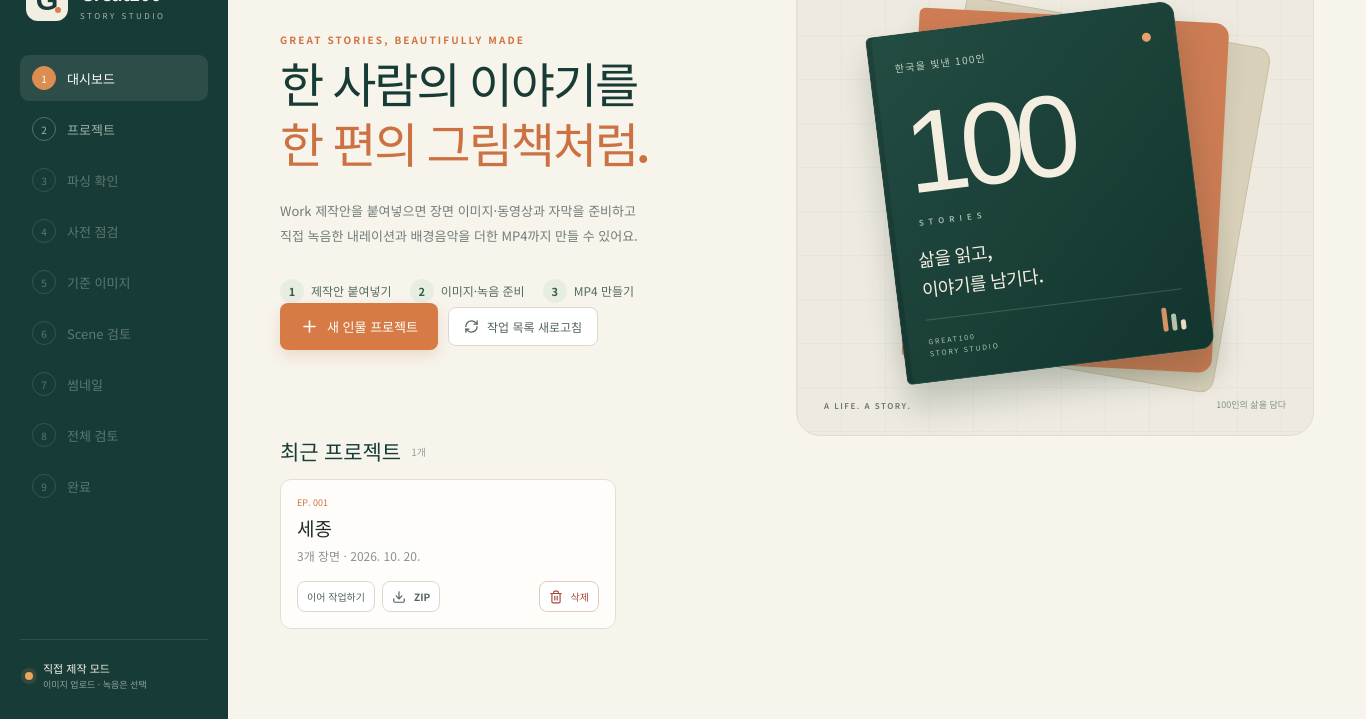
Test: keeps a failed project save visible without throwing away the selected generated voice
The width and height of the screenshot is (1366, 719).
(page scrolled)
Click the button "이어 작업하기" at (336, 597), box [297,581,375,612]
(page scrolled)
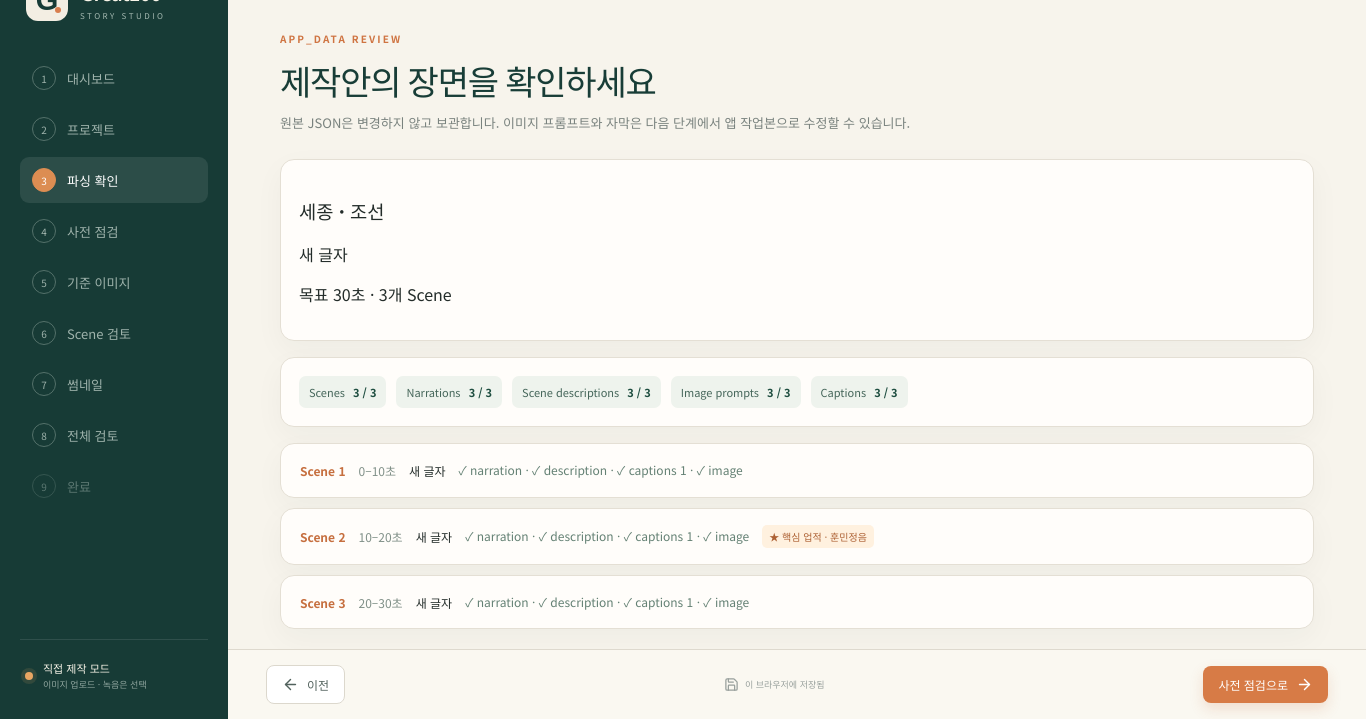
Click the button with aria-label "다음 단계" at (1266, 684), box [1203,666,1328,703]
(page scrolled)
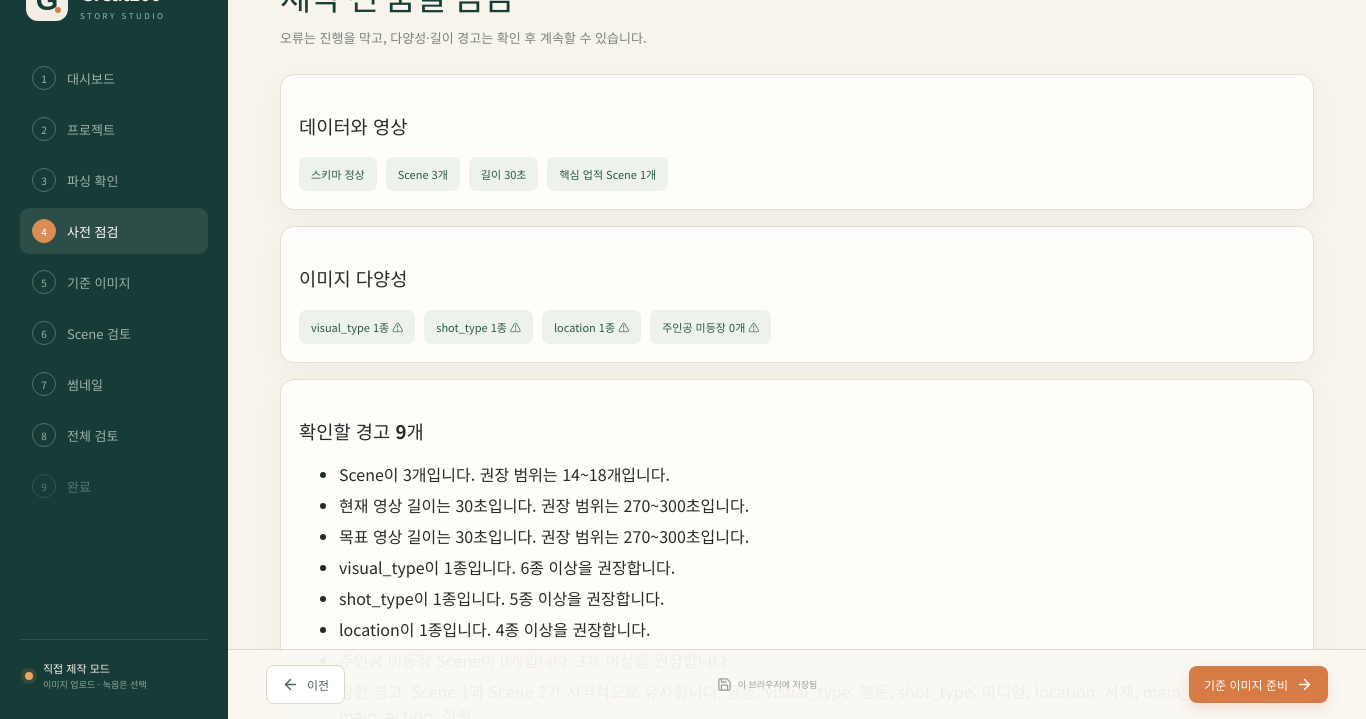
Click the button with aria-label "다음 단계" at (1258, 684), box [1189,666,1328,703]
(page scrolled)
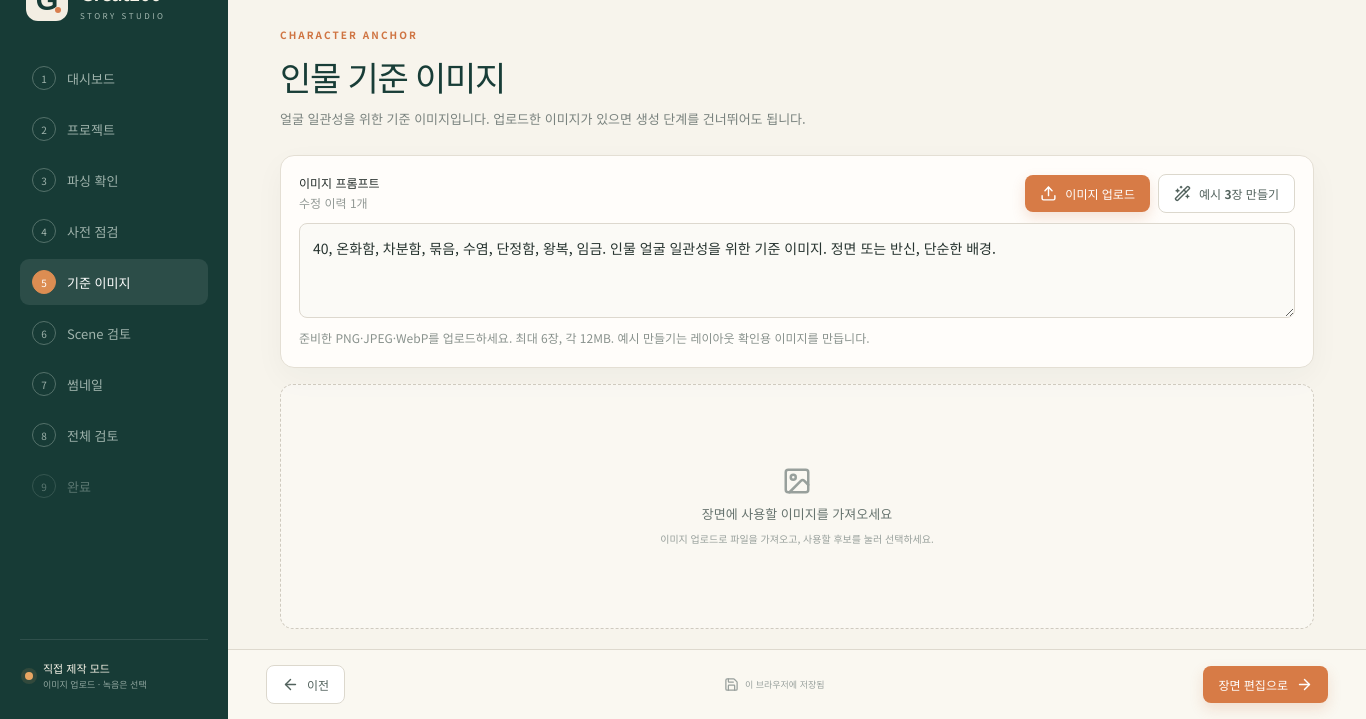
Click the button with aria-label "다음 단계" at (1266, 684), box [1203,666,1328,703]
(page scrolled)
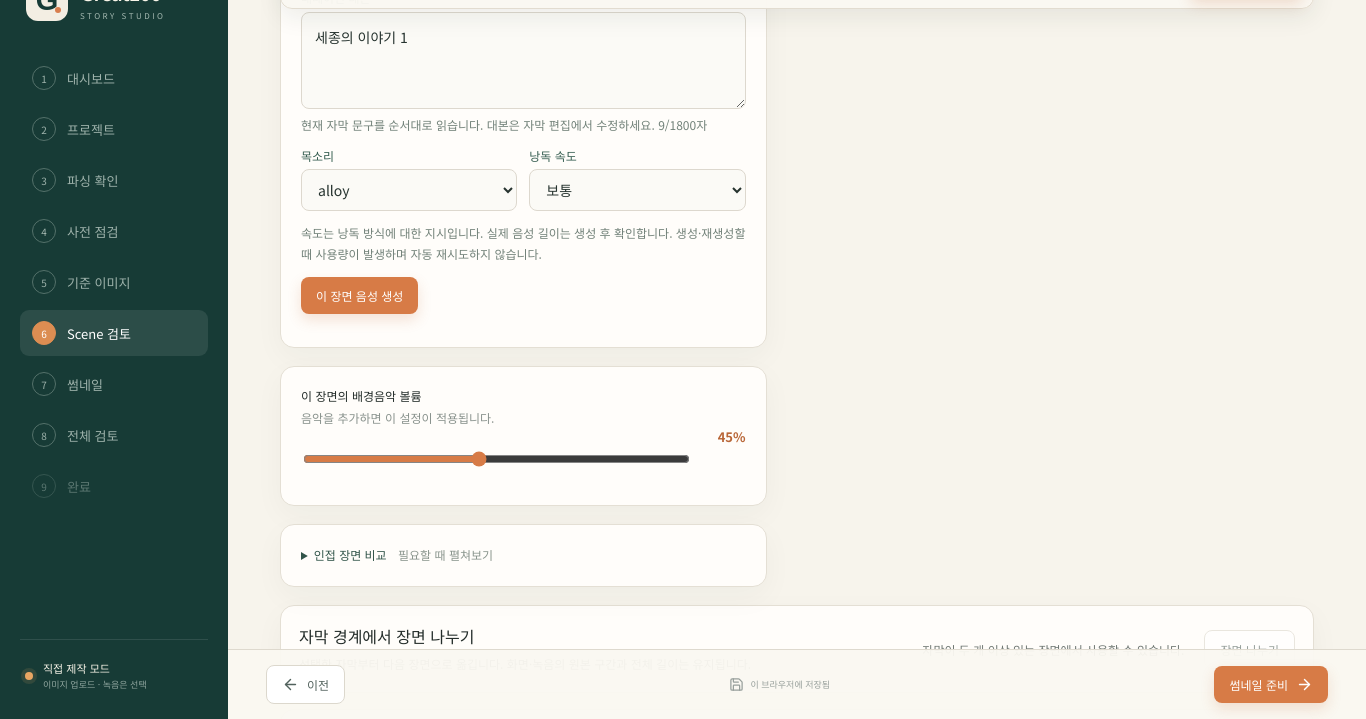
Click the button "이 장면 음성 생성" at (360, 296), box [301,277,418,314]
(page scrolled)
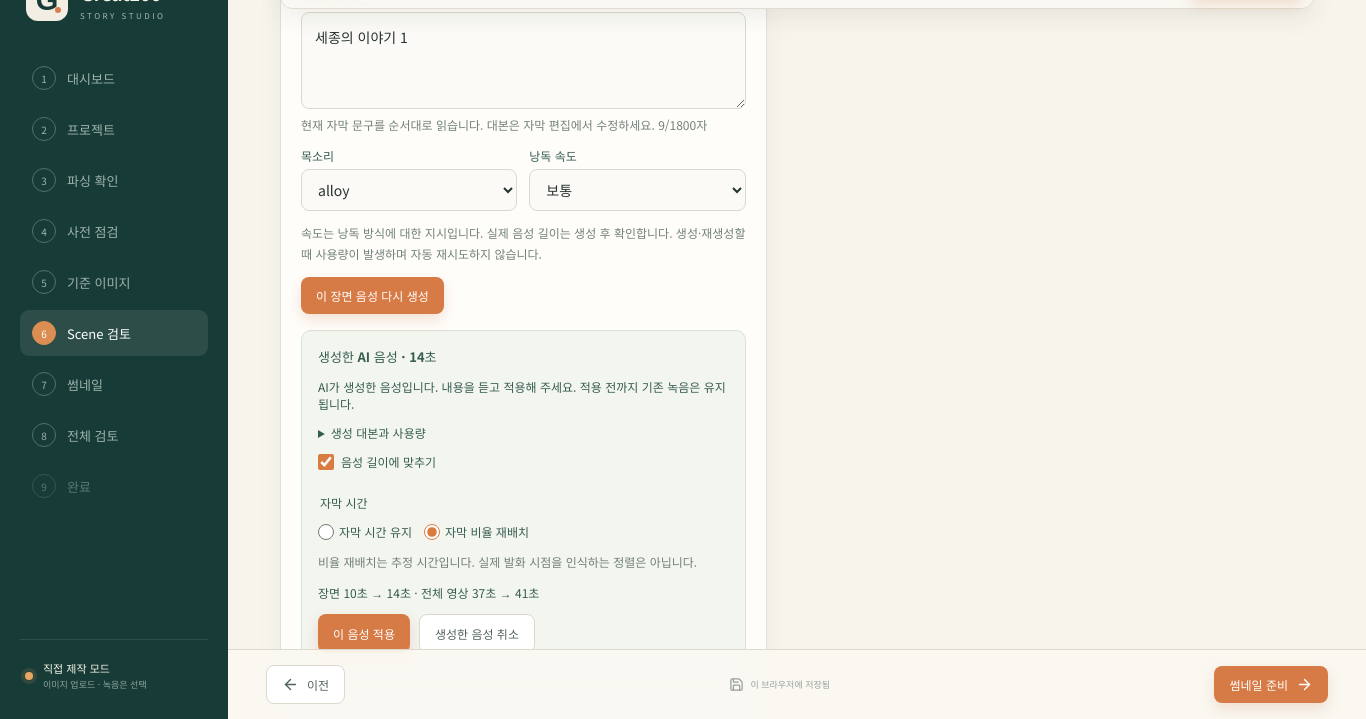
Click the button "이 음성 적용" at (364, 634), box [318,614,410,653]
(page scrolled)
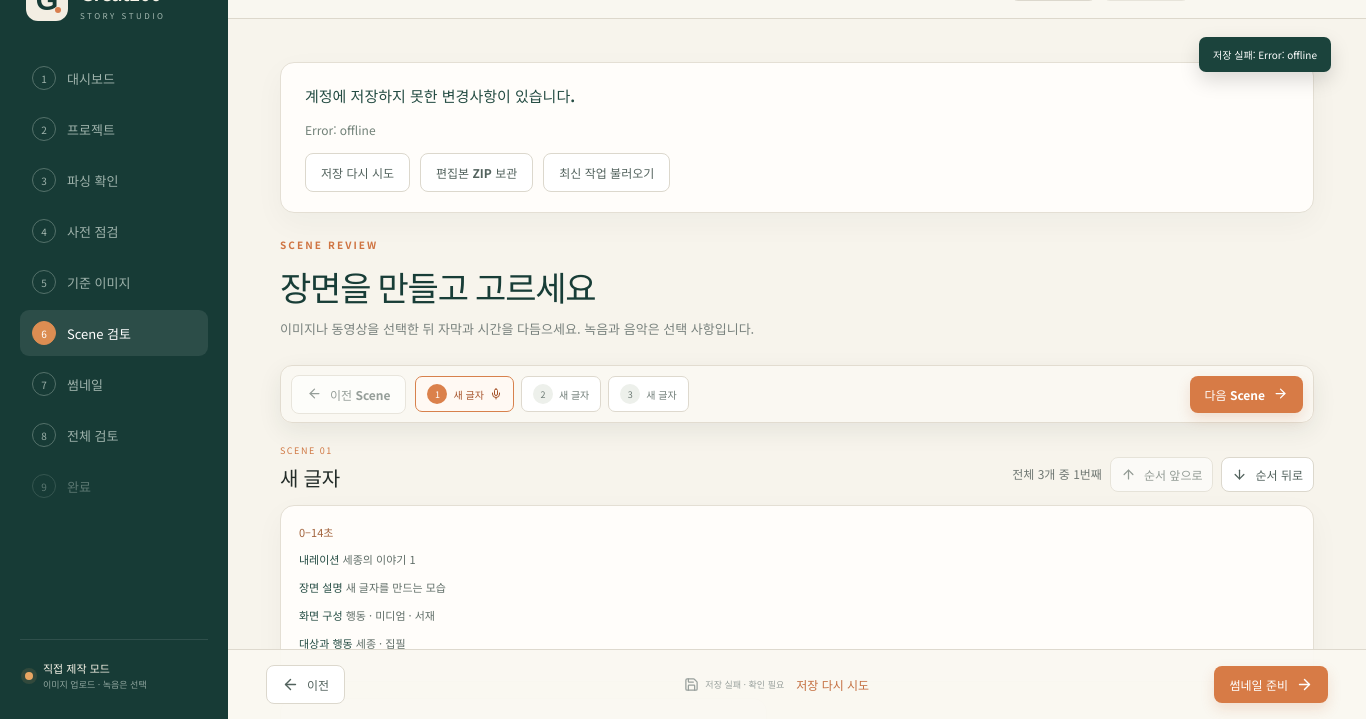
Expected: the text "저장 실패: Error: offline" is shown, [1199,37,1331,72]
